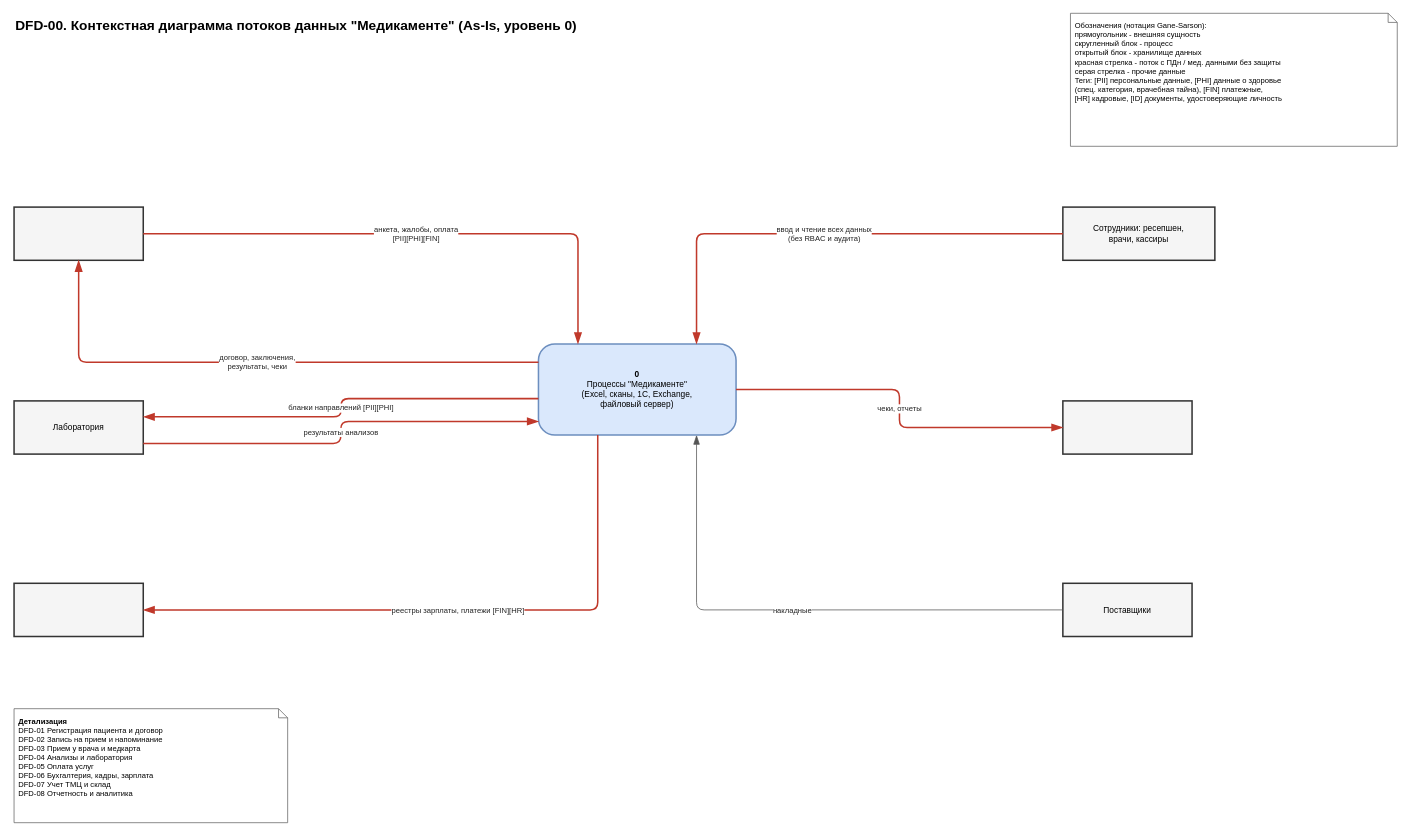
Image size: 1411x836. Some labels were removed from this diagram. Here are the shapes that lost their labels. From the top down, the centre of each, then its label:
At point (78, 233): "Пациент".
At point (1127, 427): "ОФД / ФНС / СФР".
At point (78, 609): "Банк-эквайер / банк".
